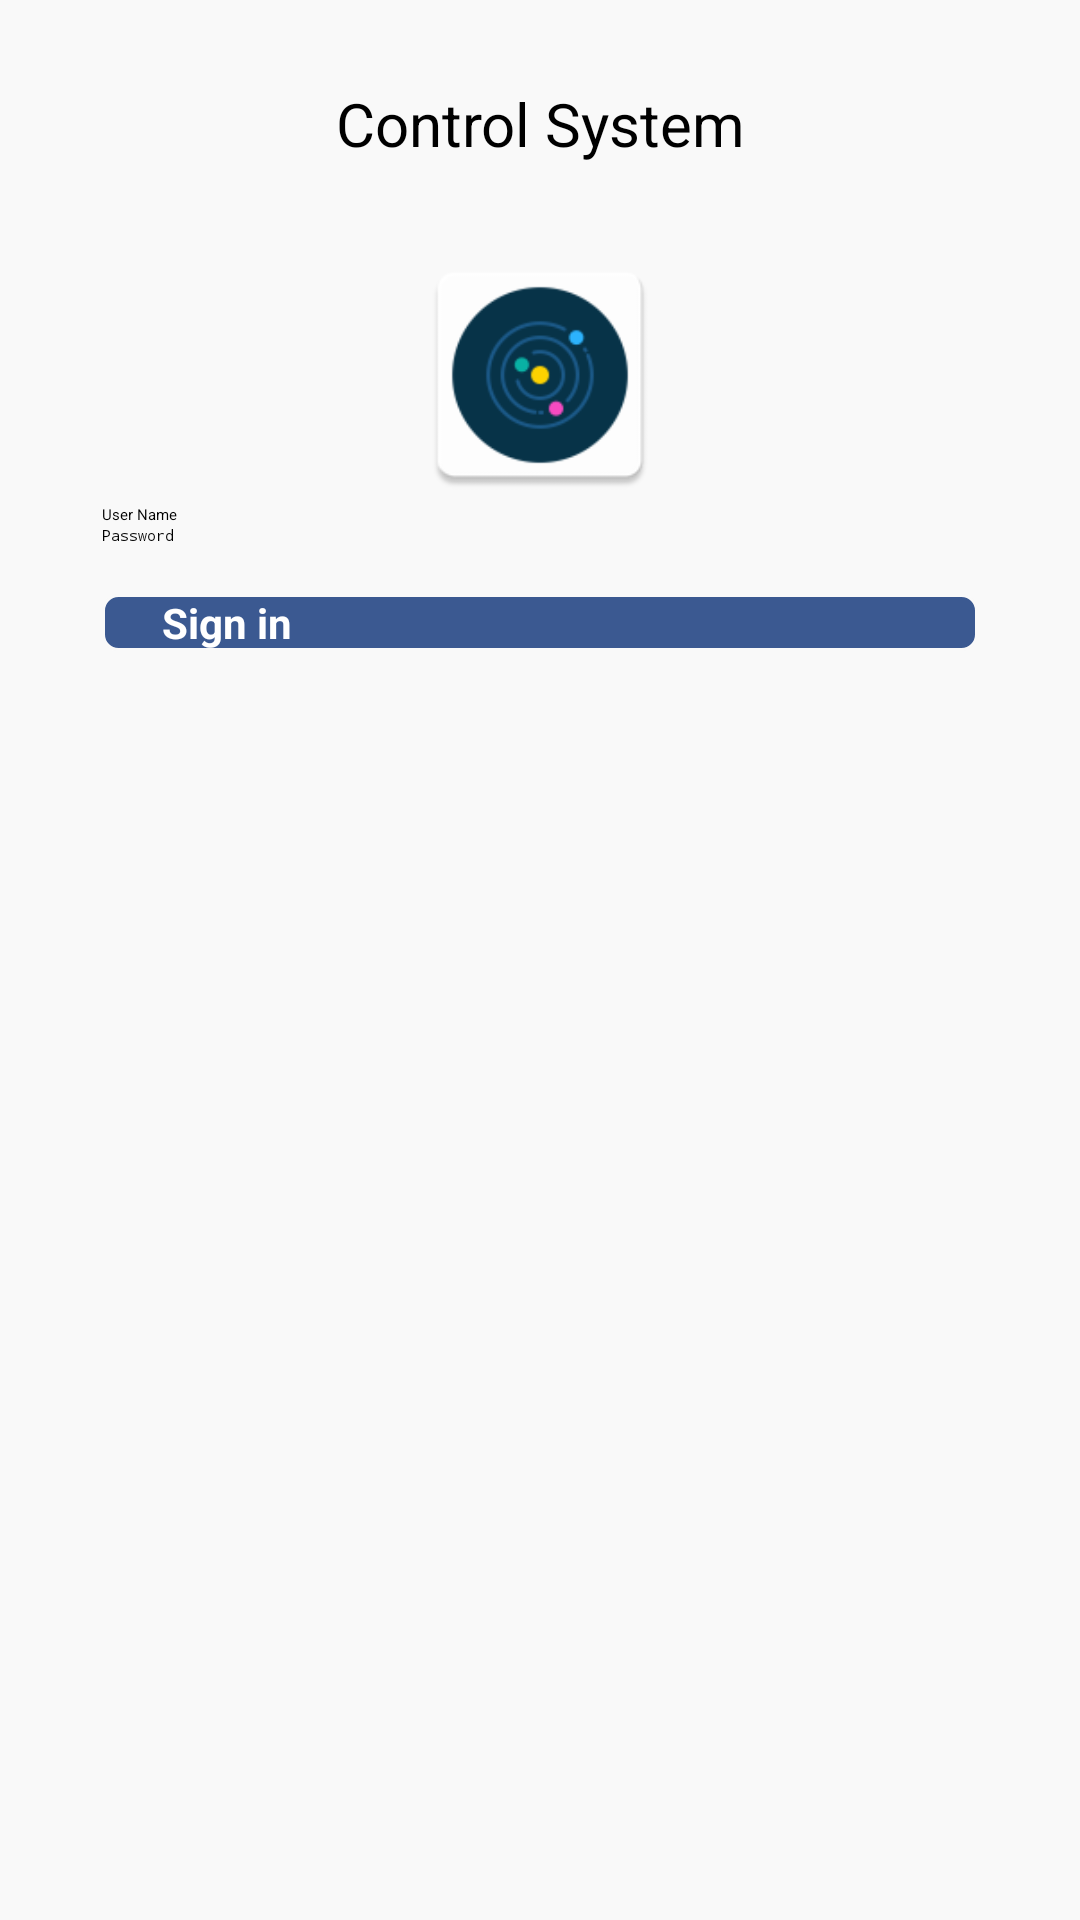

Locate icon controls on the screen. Image size 1080 × 1920, boxes as (x1, y1, x2, y2).
MAIN IMAGE: (438, 287, 643, 484)
